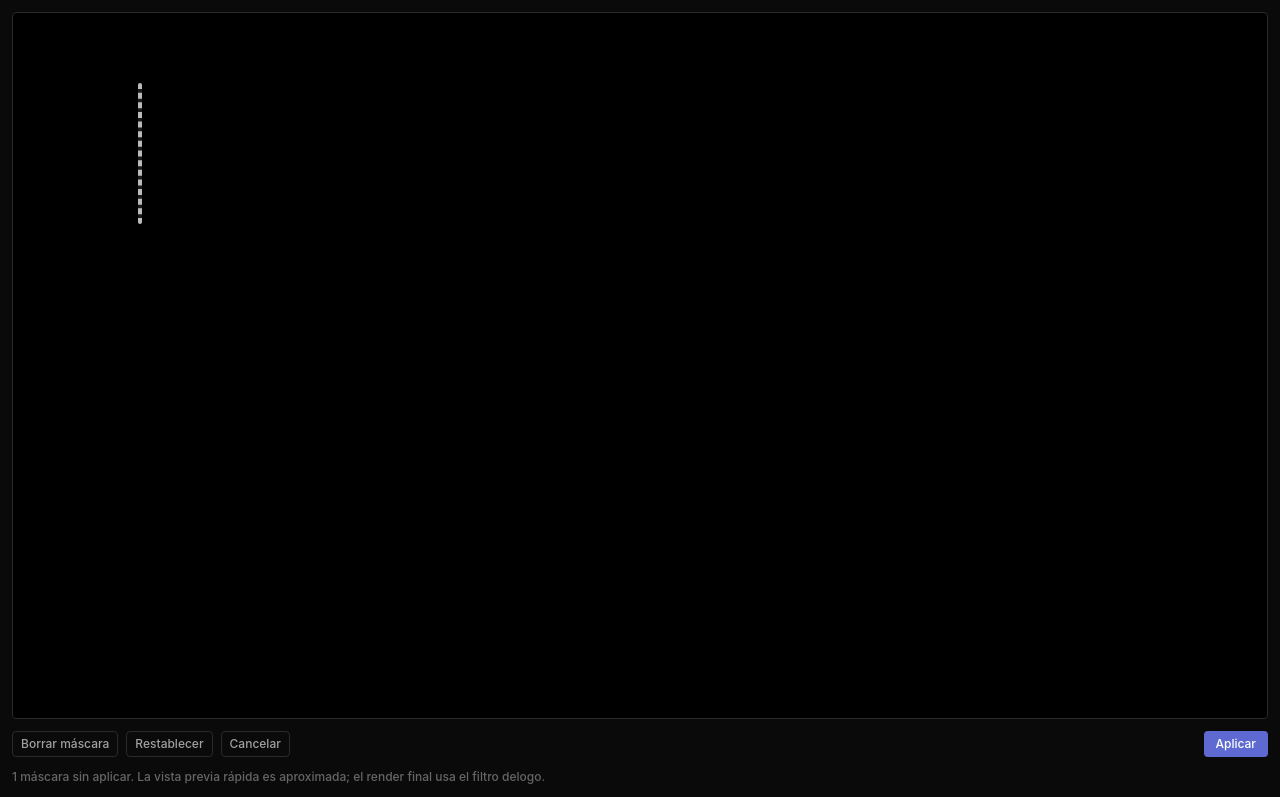
Test: RemoveLogoPanel › rechaza máscaras degeneradas con mensaje en español
Click the button "Aplicar" at (1236, 744), box [1204,730,1268,756]
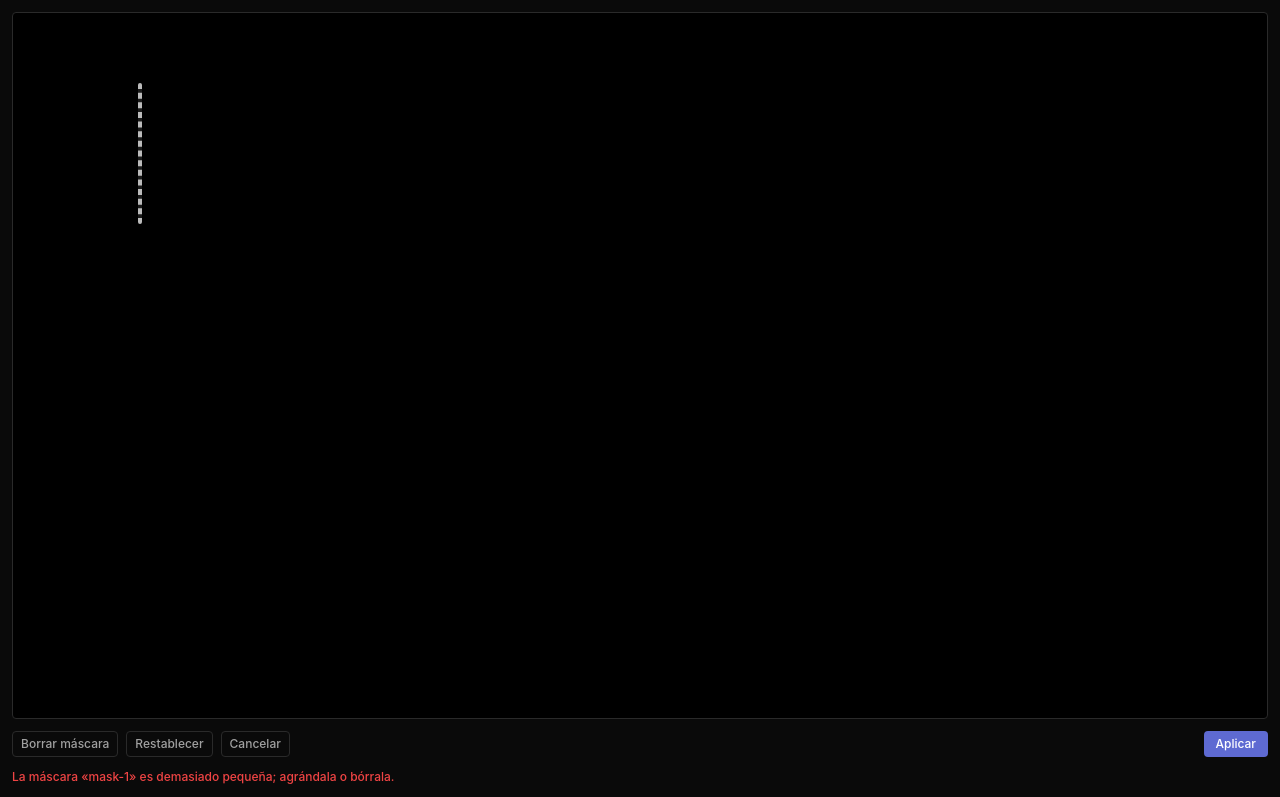
Result: the message shows "demasiado pequeña" at [12,768,394,784]
